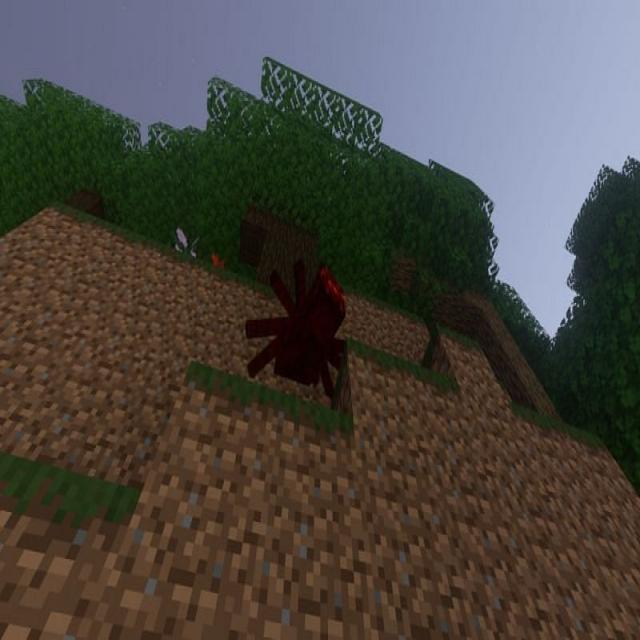Spider: (243, 256, 348, 402)
